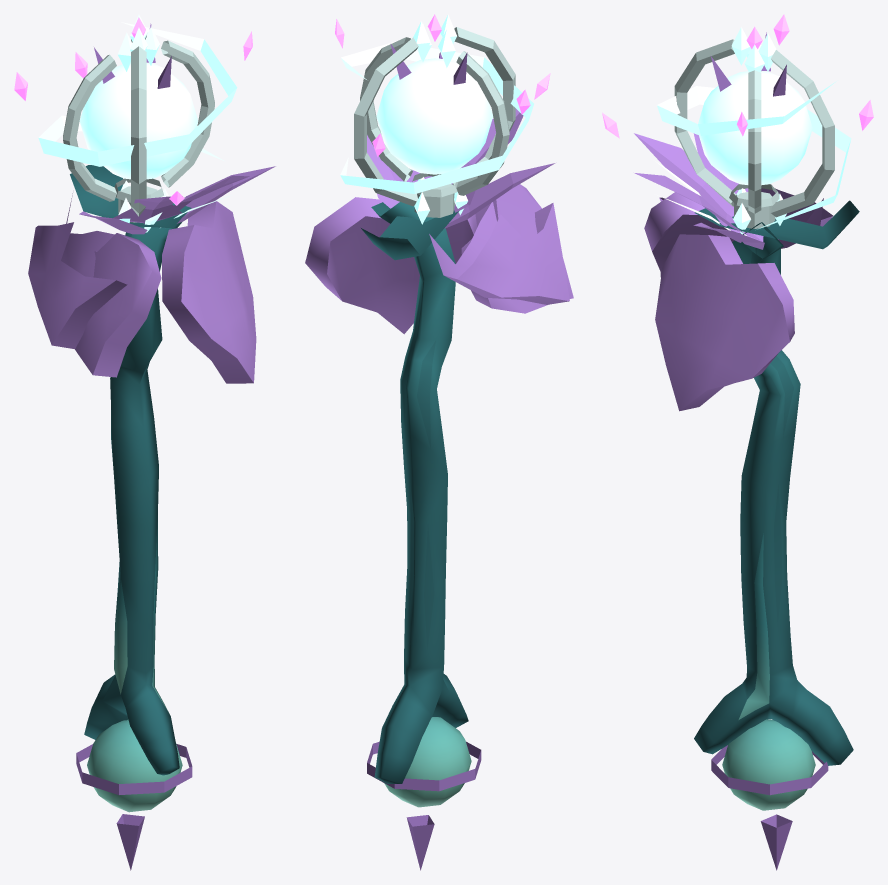
Rendered from staff_wind_epic.glb.
3 renders of one model, left to right at view 1: azimuth 30°, elevation 25°; view 2: azimuth 150°, elevation 25°; view 3: azimuth 270°, elevation 25°, orthographic. The views are drawn at different scales.
Parts seen in each view (by area): view 1: staff_wind_epic; view 2: staff_wind_epic; view 3: staff_wind_epic.
Boxes of the visible parts, <box> form: staff_wind_epic: <box>14,14,275,870</box>; staff_wind_epic: <box>305,14,573,870</box>; staff_wind_epic: <box>602,14,873,870</box>.
Bounding box in the file's own units: 55.61 × 203 × 59.34.
Materials: 7 (1 with a texture image).
